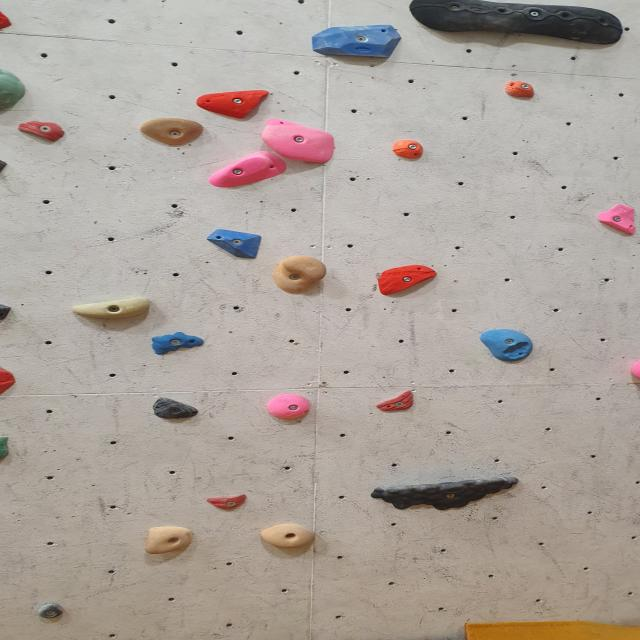Crimp: (307, 26, 402, 60), (215, 151, 288, 189), (199, 92, 272, 119), (375, 265, 430, 295), (593, 205, 640, 235), (150, 398, 202, 421), (21, 122, 65, 142), (210, 494, 257, 510), (379, 392, 414, 412)
Jug: (372, 478, 517, 514), (266, 122, 339, 165), (137, 118, 207, 147), (267, 257, 322, 293), (258, 522, 317, 551), (146, 526, 192, 554)
Pinch: (78, 295, 150, 322), (271, 394, 313, 419), (505, 80, 541, 101), (395, 139, 427, 161), (36, 605, 61, 618)
Sloper: (410, 0, 626, 46), (212, 228, 264, 260), (485, 328, 532, 363), (152, 332, 202, 354)
